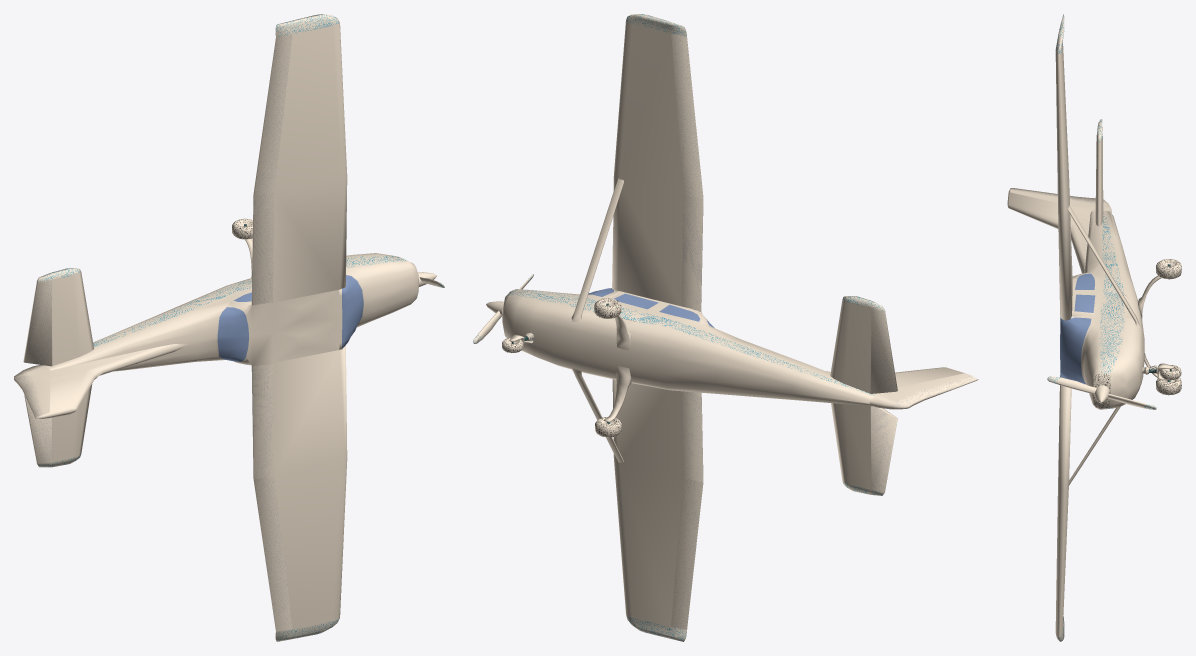
The model's file is Cessna001b.obj.
The picture shows the model from 3 angles, left to right: view 1: azimuth 30°, elevation 25°; view 2: azimuth 150°, elevation 25°; view 3: azimuth 270°, elevation 25°; orthographic projection. The views are drawn at different scales.
Size of the model in its own units: 213 by 280 by 73.01.
